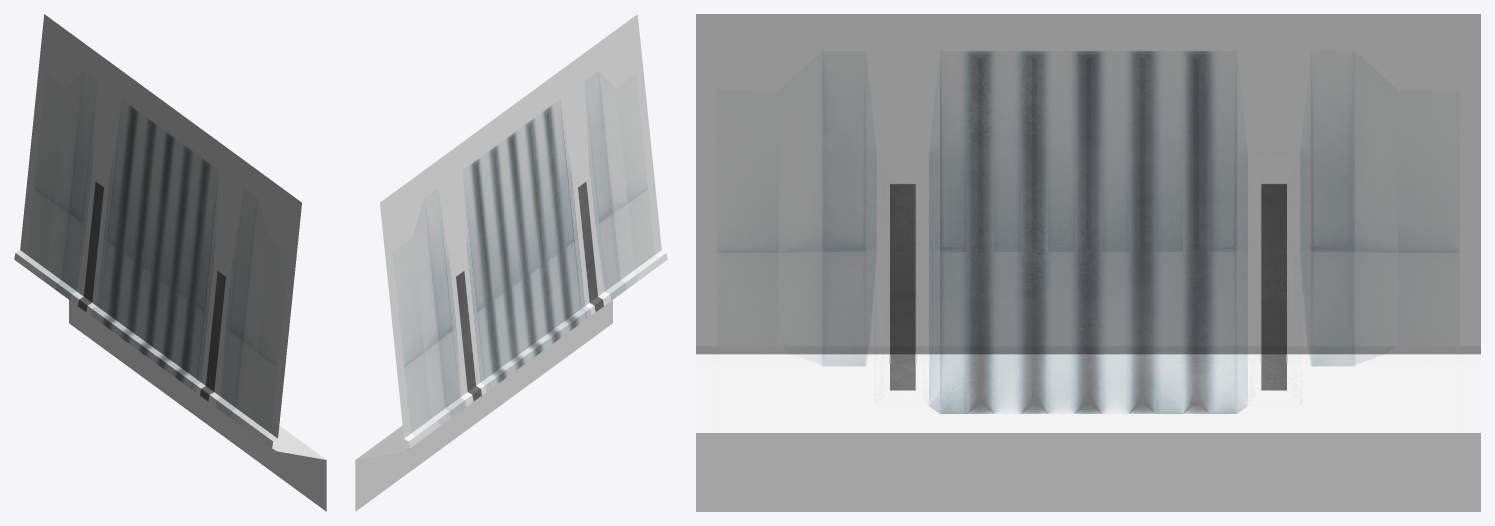
Rendered from wall.fbx.
3 views of the same model, side by side, from view 1: azimuth 30°, elevation 25°; view 2: azimuth 150°, elevation 25°; view 3: azimuth 270°, elevation 25° (orthographic). The views are drawn at different scales.
Visible parts, largest first — view 1: wall_base:wallbase; view 2: wall_base:wallbase; view 3: wall_base:wallbase.
Boxes of the visible parts, bbox=[...] form: wall_base:wallbase: bbox=[14, 14, 326, 511]; wall_base:wallbase: bbox=[355, 14, 667, 511]; wall_base:wallbase: bbox=[696, 14, 1480, 511].
Bounding box in the file's own units: 8.33 × 45.87 × 68.
